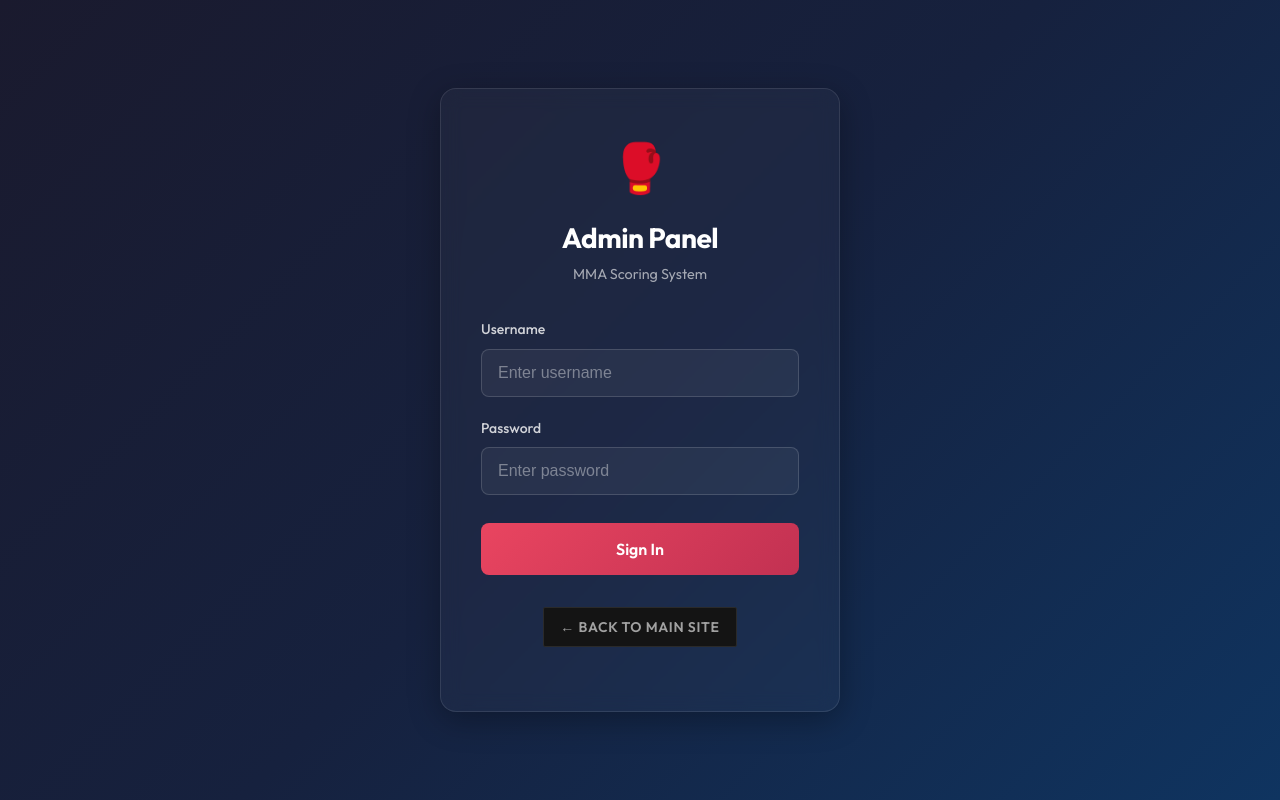
Test: AdminLoginPage › should show error for empty fields
Step 1. Click the button "Sign In" → x=640, y=549, box [481,523,799,575]
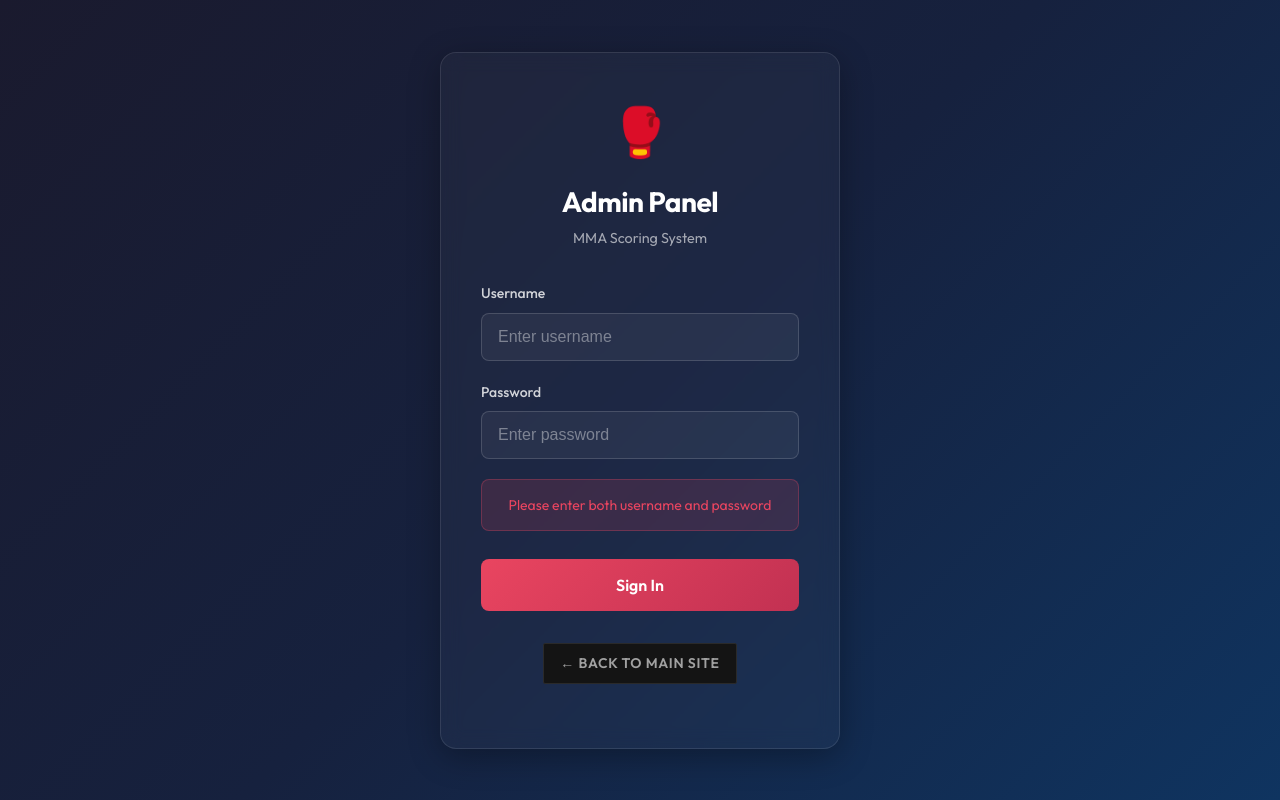
Expected: the text "Please enter both username and password" is shown, [481,479,799,531]
